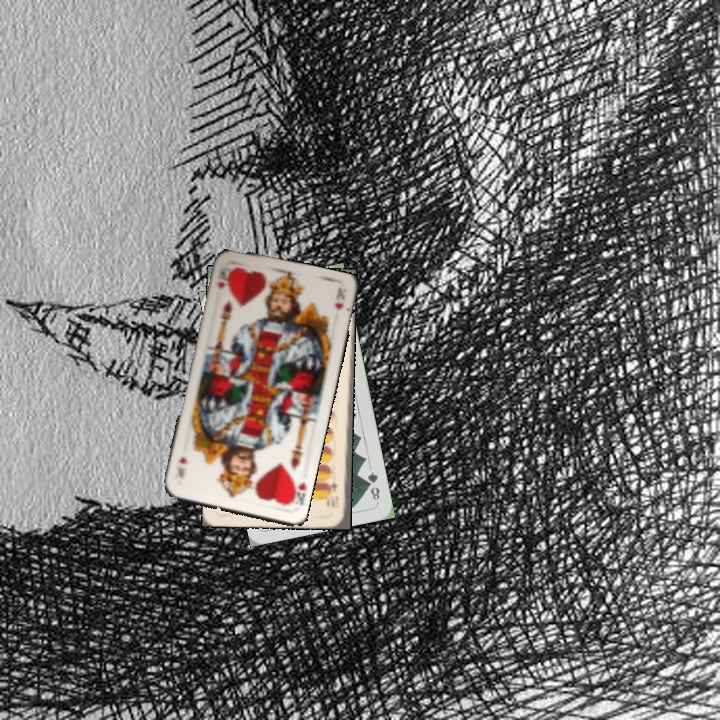E10: (327, 477, 342, 511)
G8: (363, 467, 382, 503)
HK: (285, 474, 309, 507), (212, 267, 233, 291)
